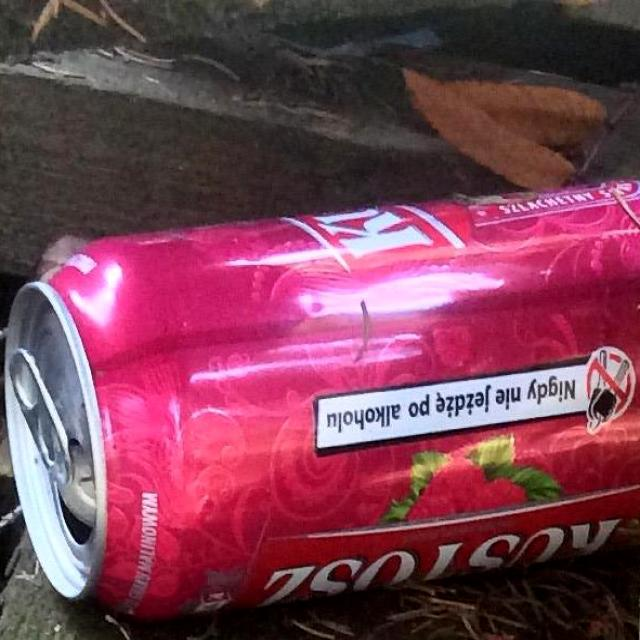Metal: (0, 171, 640, 624)
